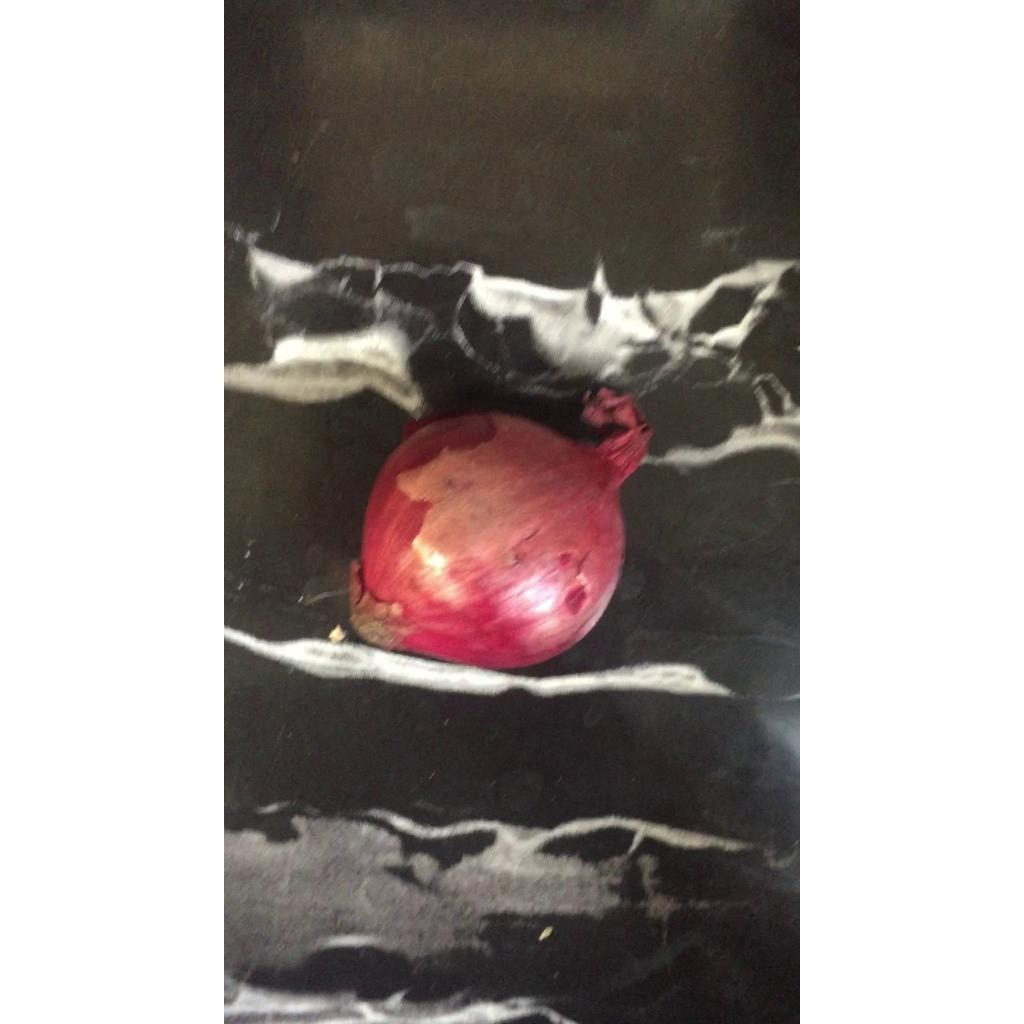Onion: (348, 388, 651, 669)
